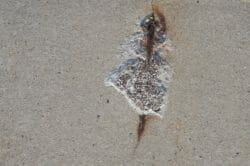Corrosion: (132, 114, 147, 154)
Exposed reinforcement: (146, 22, 155, 59)
Spalling: (103, 11, 179, 119)
